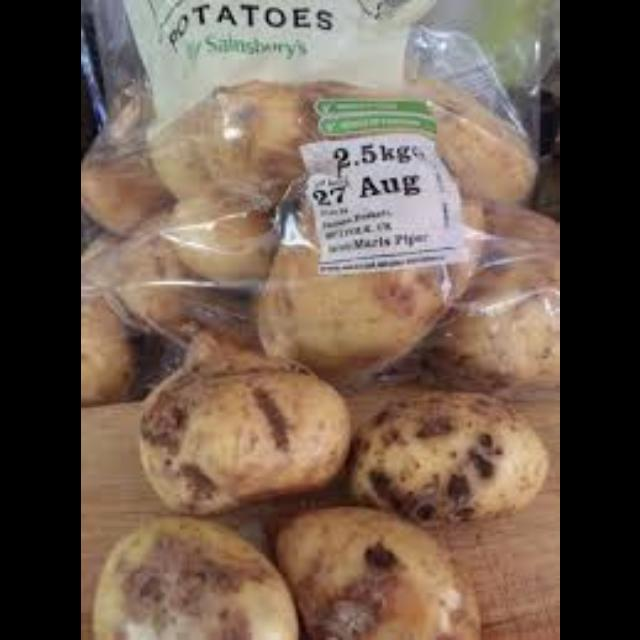Damaged potato: (324, 382, 550, 544), (132, 344, 350, 506), (266, 506, 492, 640), (90, 522, 298, 640)
